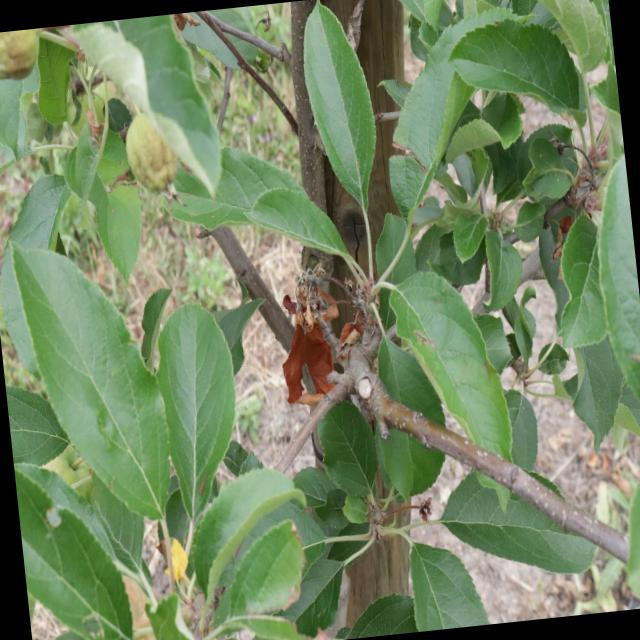-FireBlight-: (282, 272, 349, 398)
